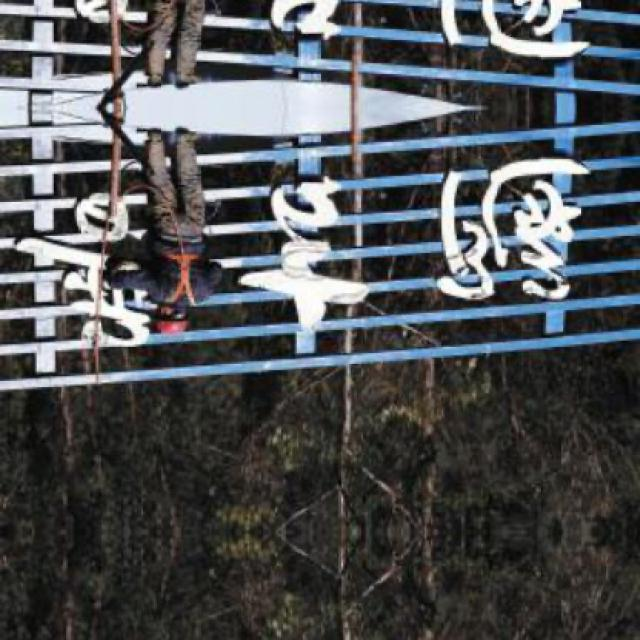con casco: (112, 279, 213, 350)
